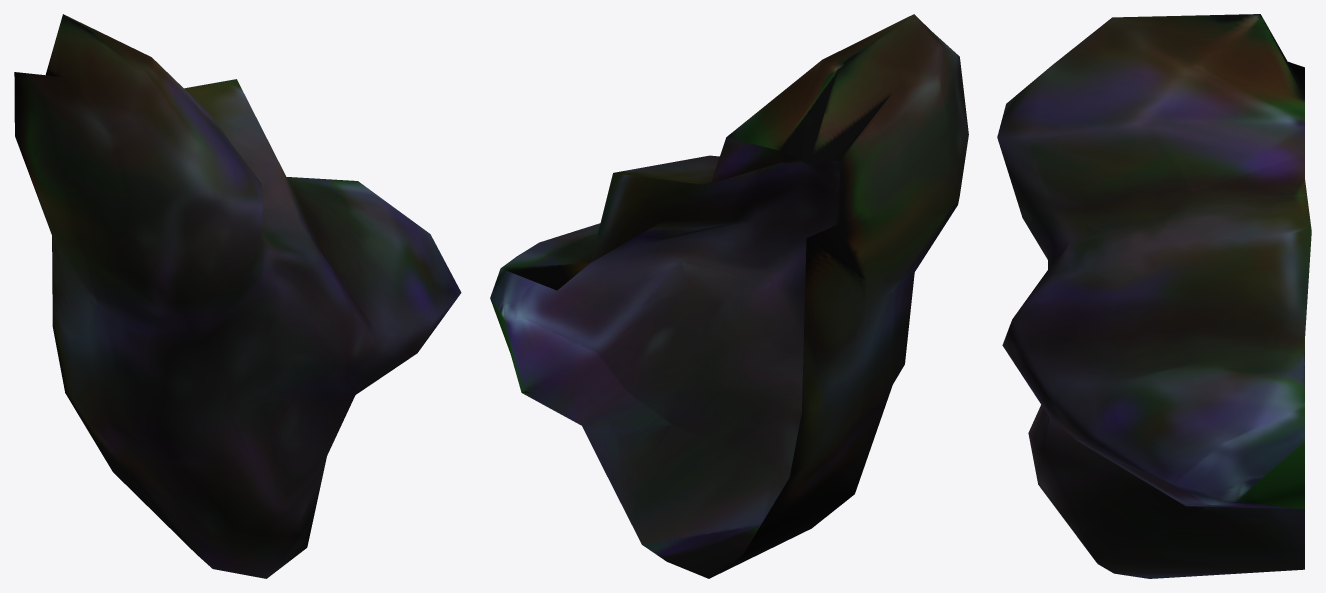
The model's file is rock2.fbx.
The picture shows the model from 3 angles, left to right: view 1: azimuth 30°, elevation 25°; view 2: azimuth 150°, elevation 25°; view 3: azimuth 270°, elevation 25°; orthographic projection. The views are drawn at different scales.
Parts seen in each view (by area): view 1: Sphere.006; view 2: Sphere.006; view 3: Sphere.006.
Boxes of the visible parts, <box> form: Sphere.006: <box>14,14,461,578</box>; Sphere.006: <box>490,14,968,578</box>; Sphere.006: <box>997,14,1311,578</box>.
Bounding box in the file's own units: 6101 × 7927 × 4488.
